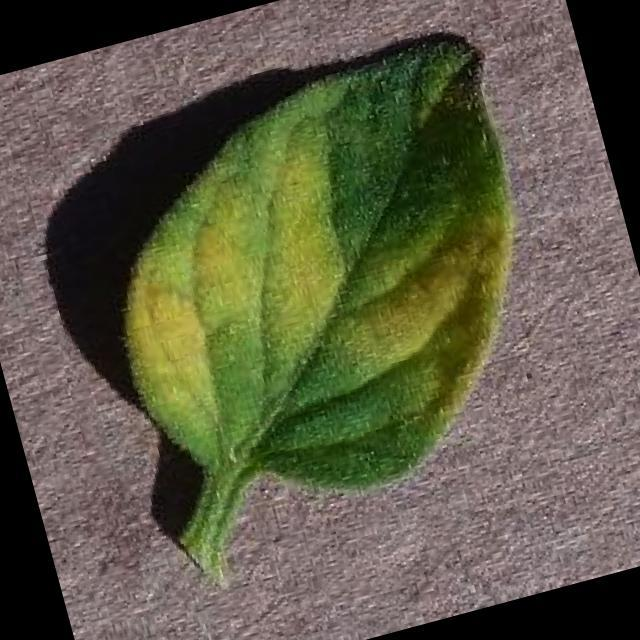Tomato mold leaf: (68, 18, 582, 534)
